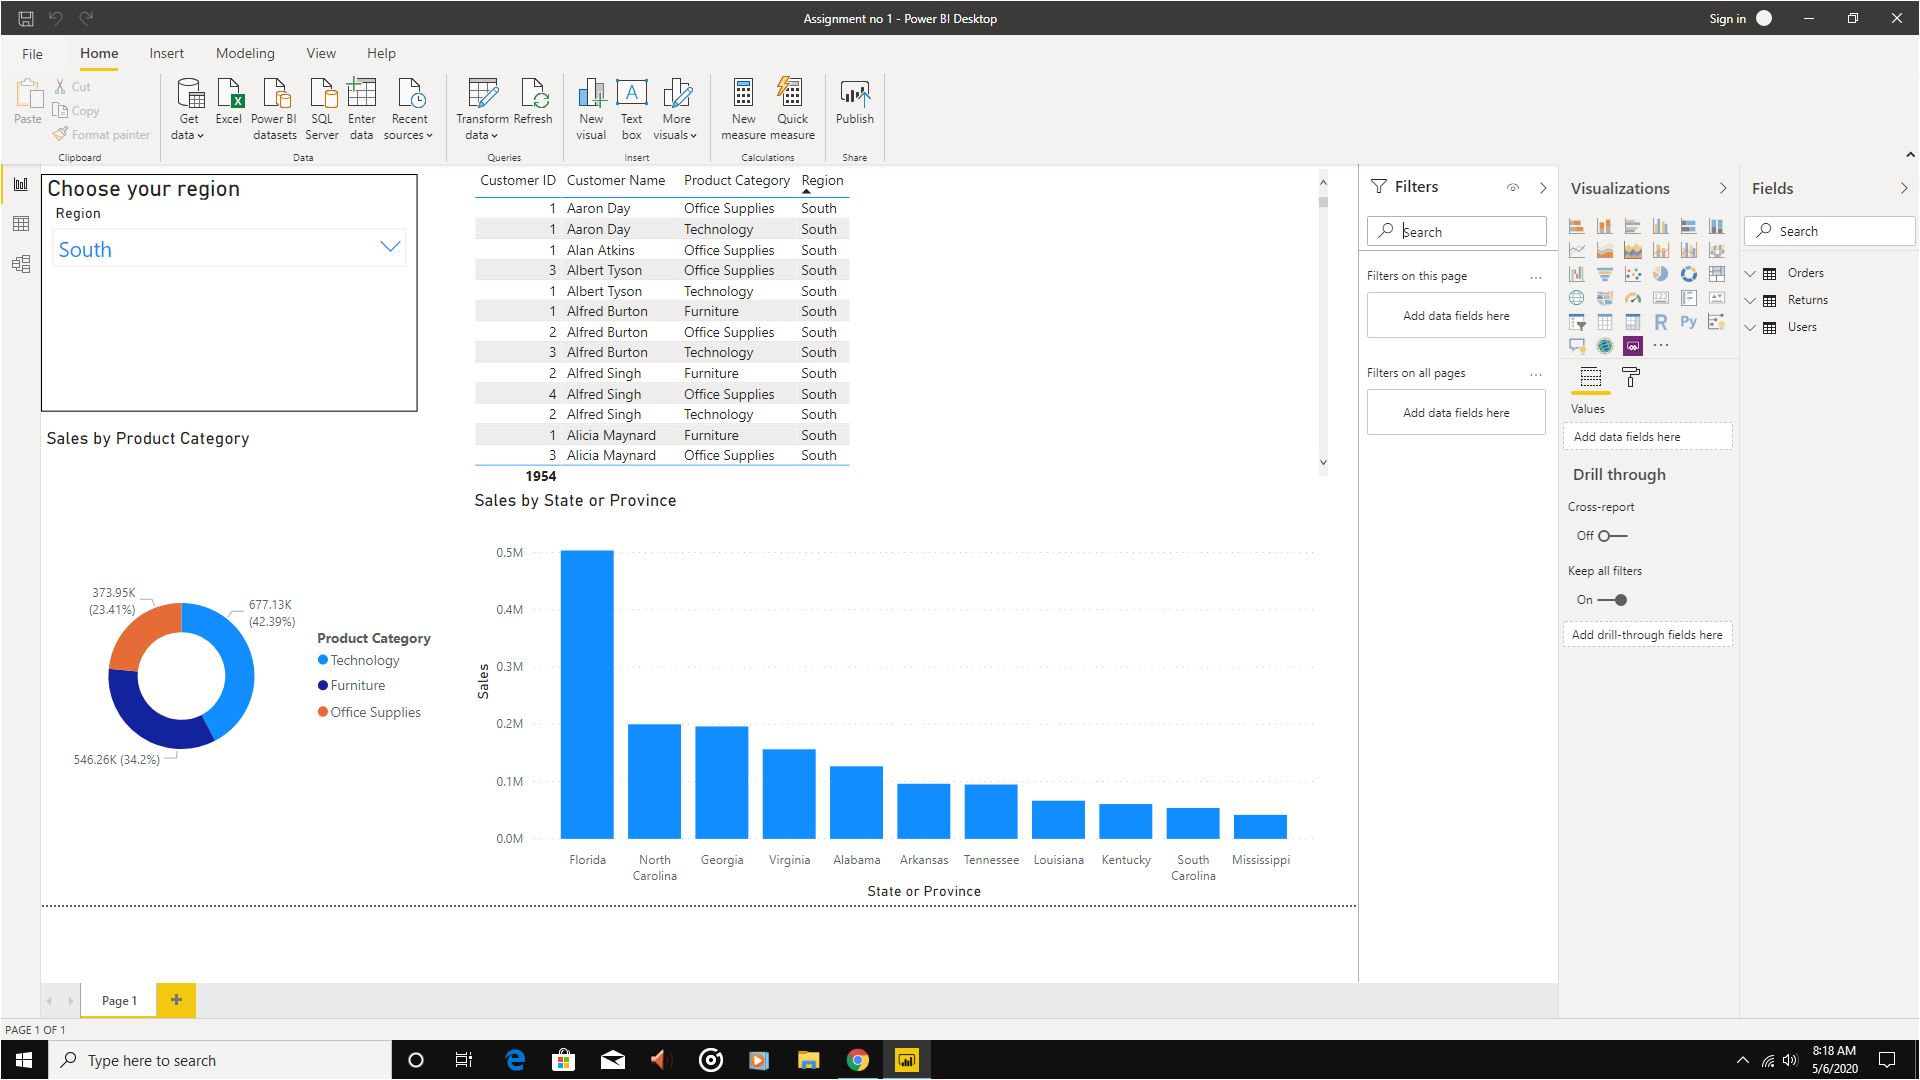

What the dashboard file says about the page in this screenshot:
{"tool":"powerbi","page":{"name":"Page 1","canvas":[1280,720],"ordinal":0},"visuals":[{"type":"tableEx","fields":{"Values":["Orders.Customer ID","Orders.Customer Name","Orders.Product Category","Orders.Region"]},"box":[416.3,0,839.6,317],"z":0},{"type":"lineClusteredColumnComboChart","fields":{"Y":["Orders.Sales"],"Category":["Orders.State or Province"]},"box":[416.3,317,826.6,403.3],"z":1000},{"type":"donutChart","fields":{"Category":["Orders.Product Category"],"Y":["Orders.Sales"]},"box":[0,256.8,399.2,463.4],"z":2000},{"type":"slicer","title":"Choose your region","fields":{"Values":["Orders.Region"]},"box":[0,10,366.1,230.7],"z":2001}]}

Visuals, with their boxes in screenshot pixels (x1, y1, x2, y2):
tableEx - Orders.Customer ID x Orders.Customer Name: <bbox>629, 5, 1827, 457</bbox>
lineClusteredColumnComboChart - Orders.Sales x Orders.State or Province: <bbox>629, 457, 1808, 1033</bbox>
donutChart - Orders.Product Category x Orders.Sales: <bbox>35, 371, 605, 1033</bbox>
"Choose your region" slicer: <bbox>35, 19, 557, 348</bbox>
